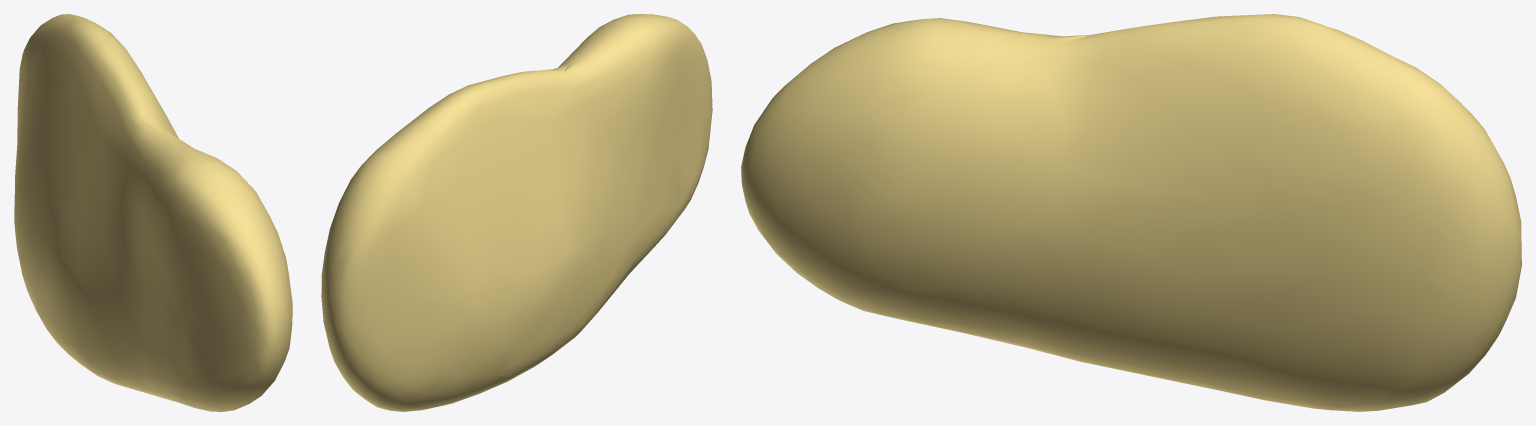
The model's file is fma73003_mm2838.glb.
3 views of the same model, side by side, from view 1: azimuth 30°, elevation 25°; view 2: azimuth 150°, elevation 25°; view 3: azimuth 270°, elevation 25° (orthographic). The views are drawn at different scales.
Visible parts, largest first — view 1: FMA73003_MM2838; view 2: FMA73003_MM2838; view 3: FMA73003_MM2838.
Part boxes in pixels (x1,y1,x2,y2): FMA73003_MM2838: [14, 14, 292, 411]; FMA73003_MM2838: [321, 14, 712, 411]; FMA73003_MM2838: [741, 14, 1521, 411].
Bounding box in the file's own units: 0.00378 × 0.00753 × 0.0138.
